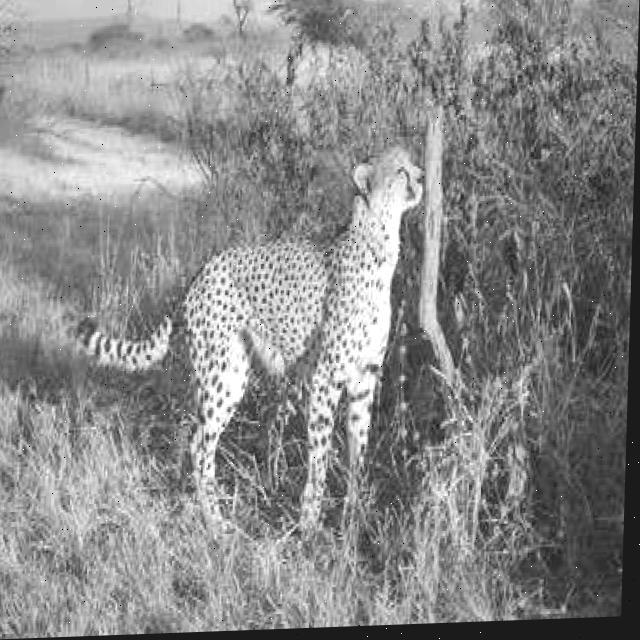Leopard: (115, 72, 425, 530)
